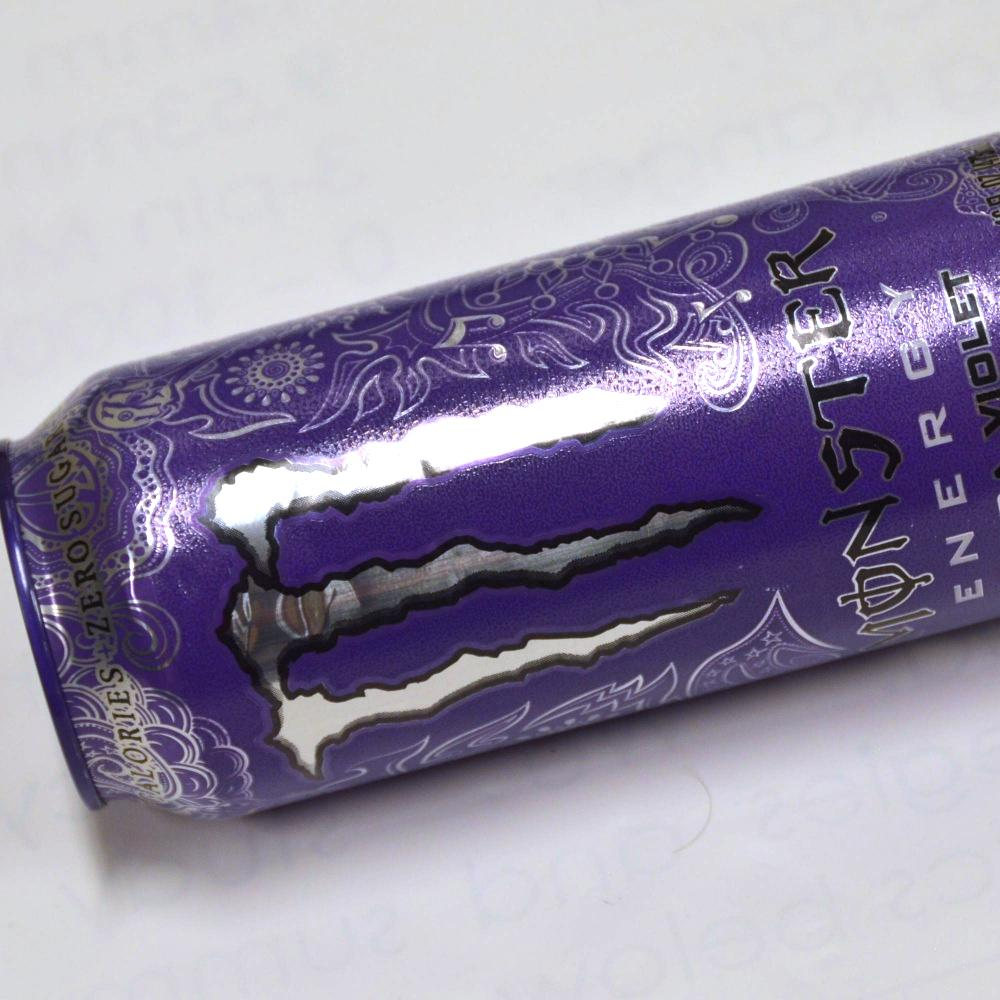Metal: (31, 260, 986, 790)
